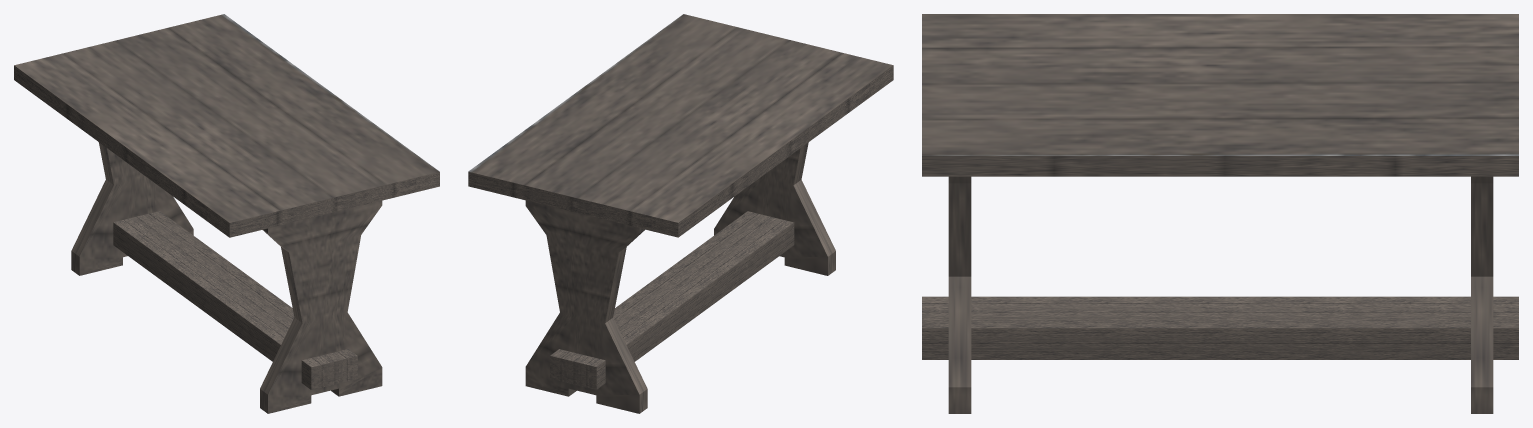
The model's file is table1.fbx.
3 renders of one model, left to right at view 1: azimuth 30°, elevation 25°; view 2: azimuth 150°, elevation 25°; view 3: azimuth 270°, elevation 25°, orthographic. The views are drawn at different scales.
Parts seen in each view (by area): view 1: Cube.005; view 2: Cube.005; view 3: Cube.005.
Part boxes in pixels (left/top/right/bottom): Cube.005: left=14, top=14, right=439, bottom=413; Cube.005: left=468, top=14, right=893, bottom=413; Cube.005: left=922, top=14, right=1518, bottom=413.
Size of the model in its own units: 332 by 317 by 590.
Materials: 1 (1 with a texture image).
